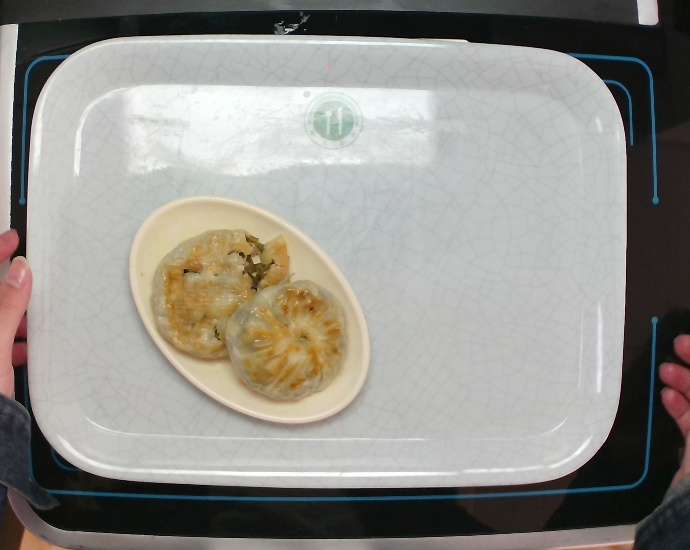JYsf-Tuo_Yuan_Wan: (124, 194, 376, 429)
